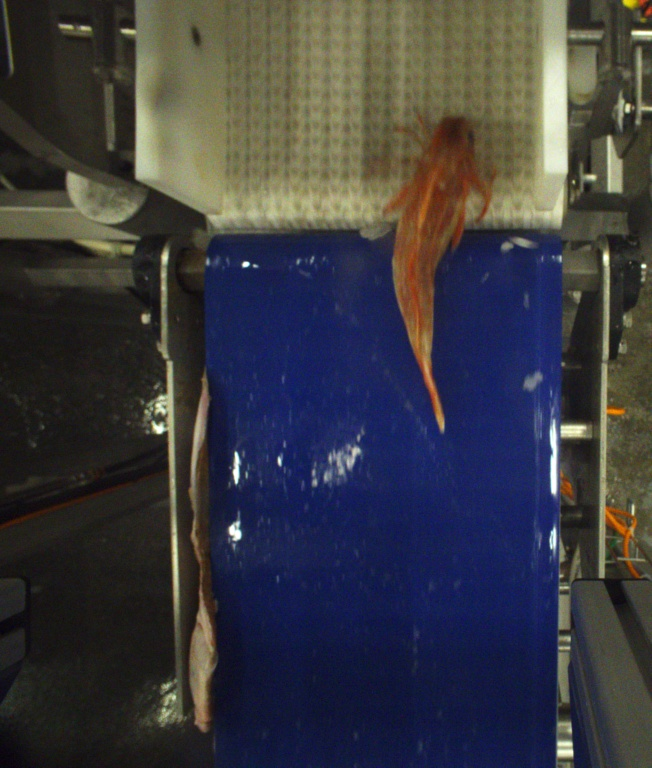GUU: (375, 113, 495, 431)
